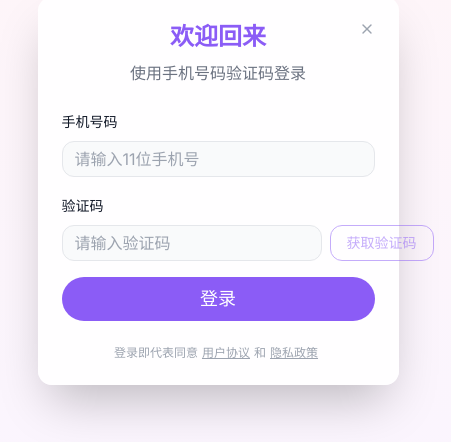
Scenario: LoginPage (SMS Login) › should enable get SMS code button when valid phone is entered
This screenshot has width=451, height=442.
Type "13800138000" into the field with placeholder "请输入11位手机号" at (218, 159), box [62,141,374,177]
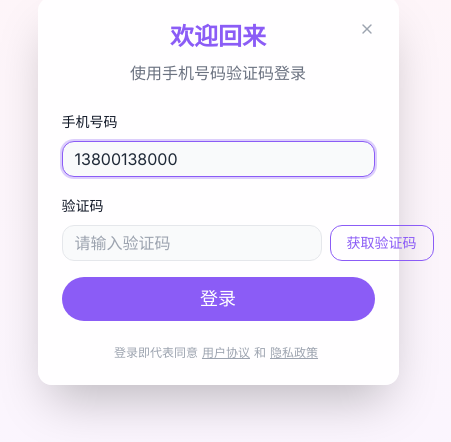
Result: the button "获取验证码" is enabled at [330,225,434,261]
